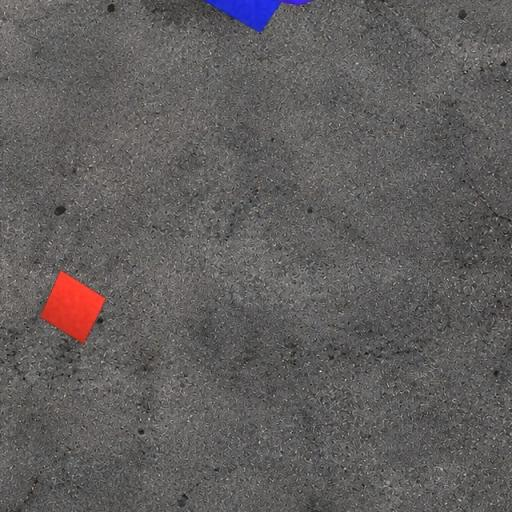RED_SQUARE: (39, 269, 107, 345)
